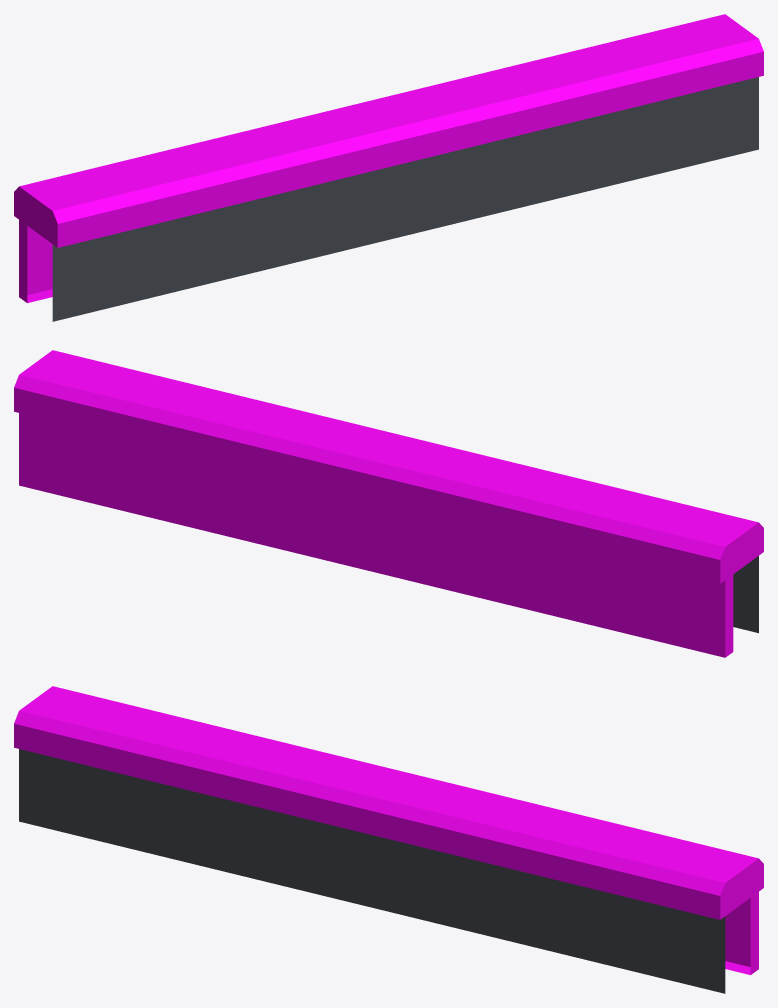
File: ind_parapet.glb
3 views of the same model, one above another, from view 1: azimuth 30°, elevation 25°; view 2: azimuth 150°, elevation 25°; view 3: azimuth 330°, elevation 25° (orthographic).
Parts seen in each view (by area): view 1: ind_parapet__mesh; view 2: ind_parapet__mesh; view 3: ind_parapet__mesh.
Boxes of the visible parts, x1,y1,x2,y2 form: ind_parapet__mesh: (14,14,763,321); ind_parapet__mesh: (14,350,763,657); ind_parapet__mesh: (14,686,763,993).
Size of what is drawn, in the model's own units: 4 by 0.6 by 0.43.
1 material, 1 textured.
